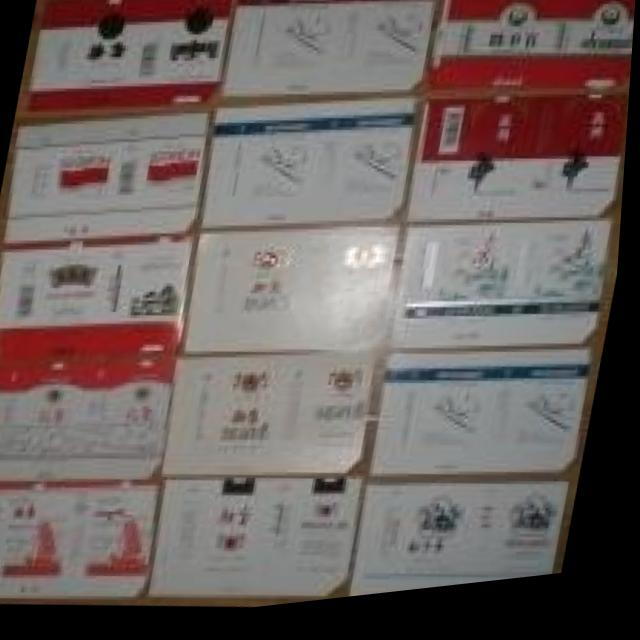box: (375, 361, 596, 488), (394, 235, 612, 360), (186, 237, 403, 362), (410, 107, 628, 231), (205, 108, 416, 233), (168, 361, 378, 482), (4, 115, 207, 240), (157, 485, 369, 602), (0, 354, 183, 486), (358, 494, 573, 606), (26, 0, 233, 115), (0, 241, 197, 361), (218, 0, 436, 101), (428, 0, 637, 101), (0, 484, 166, 601)
